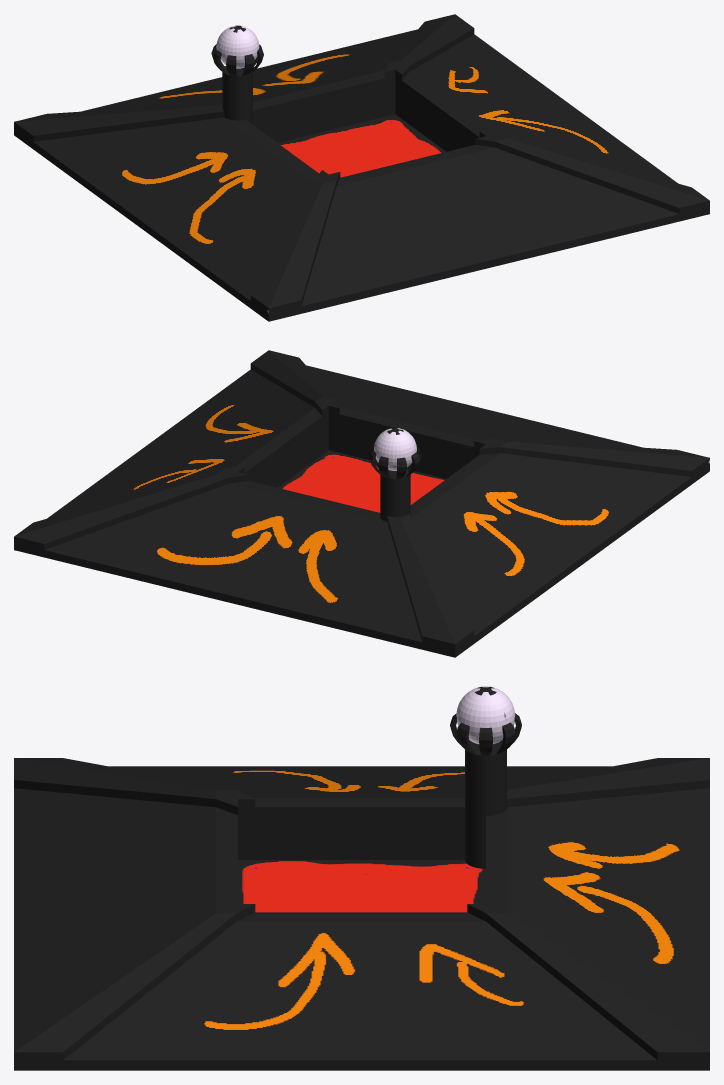
Rendered from CubePit.fbx.
3 views of the same model, one above another, from view 1: azimuth 30°, elevation 25°; view 2: azimuth 150°, elevation 25°; view 3: azimuth 270°, elevation 25° (orthographic). The views are drawn at different scales.
Visible parts, largest first — view 1: Cube.001; view 2: Cube.001; view 3: Cube.001.
Part boxes in pixels (left/top/right/bottom): Cube.001: left=14, top=14, right=709, bottom=321; Cube.001: left=14, top=350, right=709, bottom=657; Cube.001: left=14, top=686, right=709, bottom=1070.
Bounding box in the file's own units: 1271 × 367 × 1271.
Materials: 1 (1 with a texture image).
